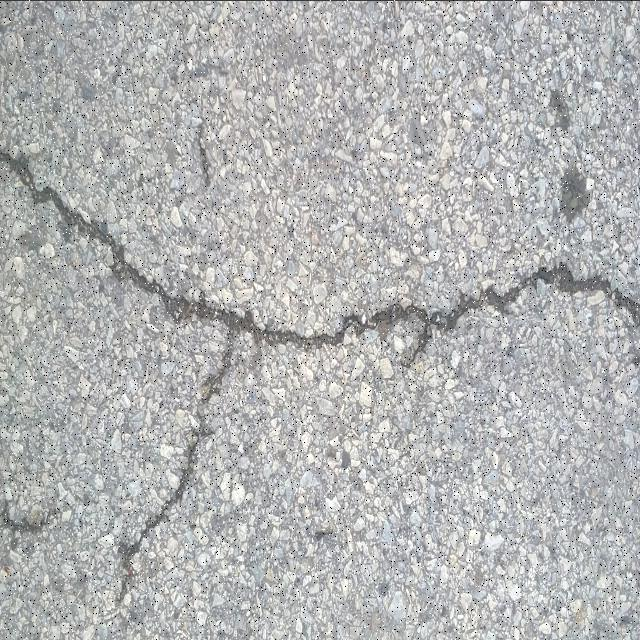Crack: (0, 150, 640, 403), (117, 412, 216, 602), (0, 498, 50, 535)
